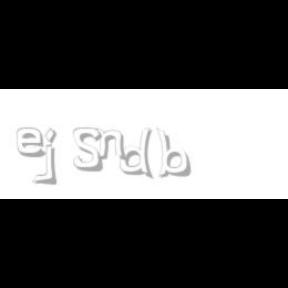S: (74, 128, 104, 172)
b: (156, 128, 194, 178)
d: (120, 128, 156, 180)
e: (16, 128, 50, 158)
j: (42, 128, 70, 186)
n: (95, 128, 129, 162)
